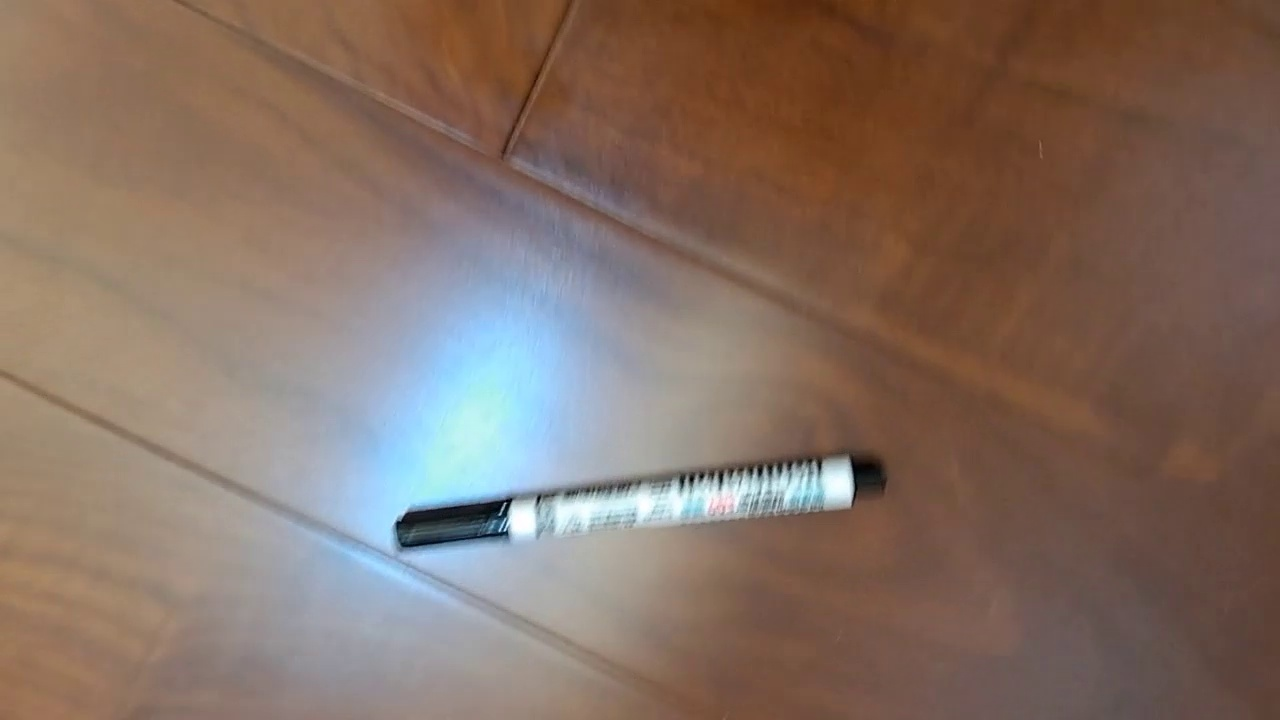pen: (392, 450, 888, 553)
